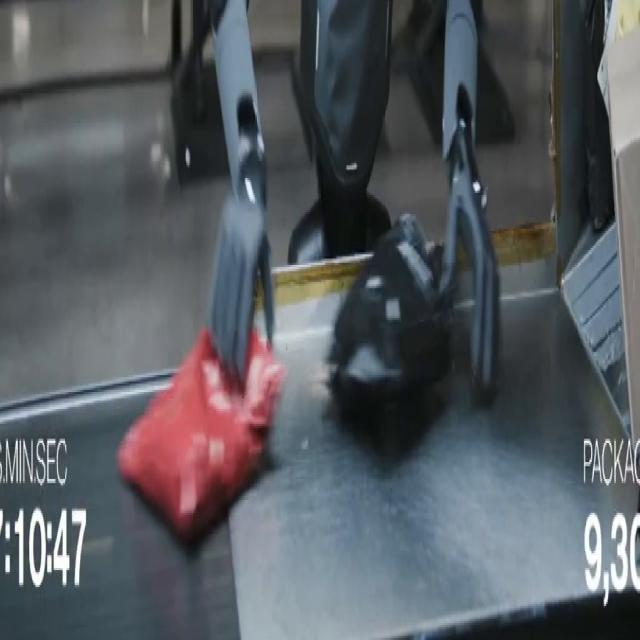package: (118, 331, 285, 542), (328, 215, 454, 409), (608, 30, 639, 440), (614, 0, 639, 38)
